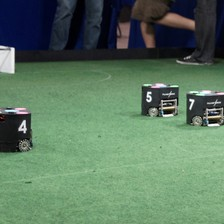goal: (1, 43, 18, 75)
robot: (137, 78, 181, 119), (182, 87, 224, 128), (1, 104, 34, 154)
